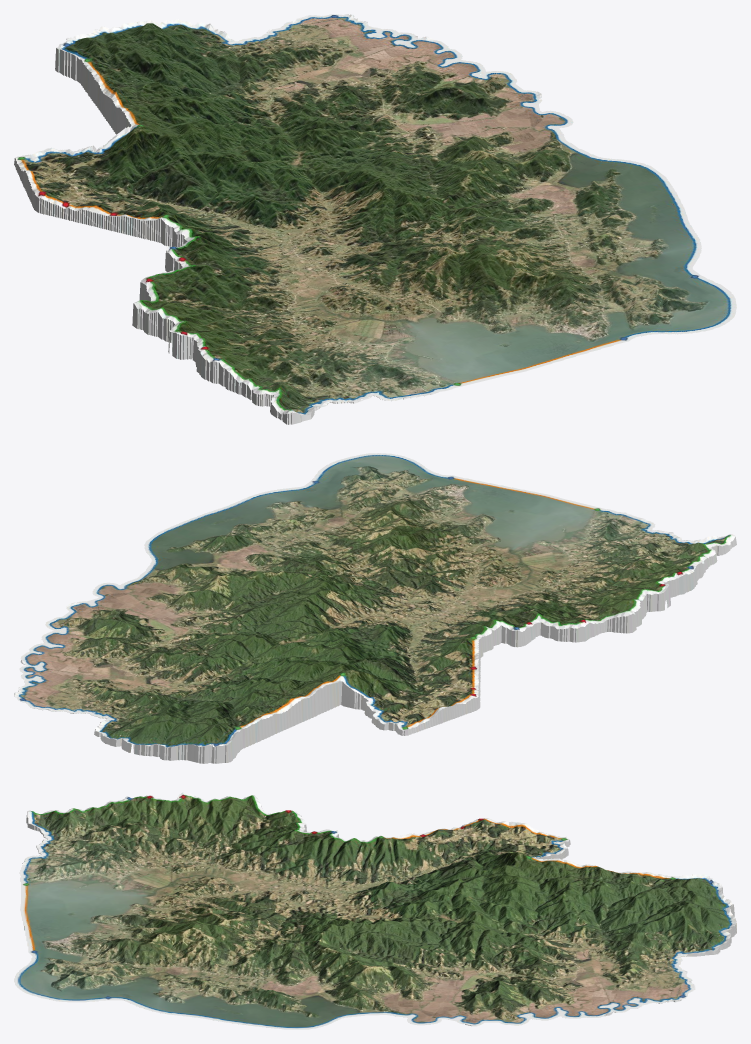
The picture shows the model from 3 angles, top to bottom: view 1: azimuth 30°, elevation 25°; view 2: azimuth 150°, elevation 25°; view 3: azimuth 270°, elevation 25°; orthographic projection. The views are drawn at different scales.
Bounding box in the file's own units: 0.9982 × 0.0575 × 1.4.
Materials: 1 (1 with a texture image).
